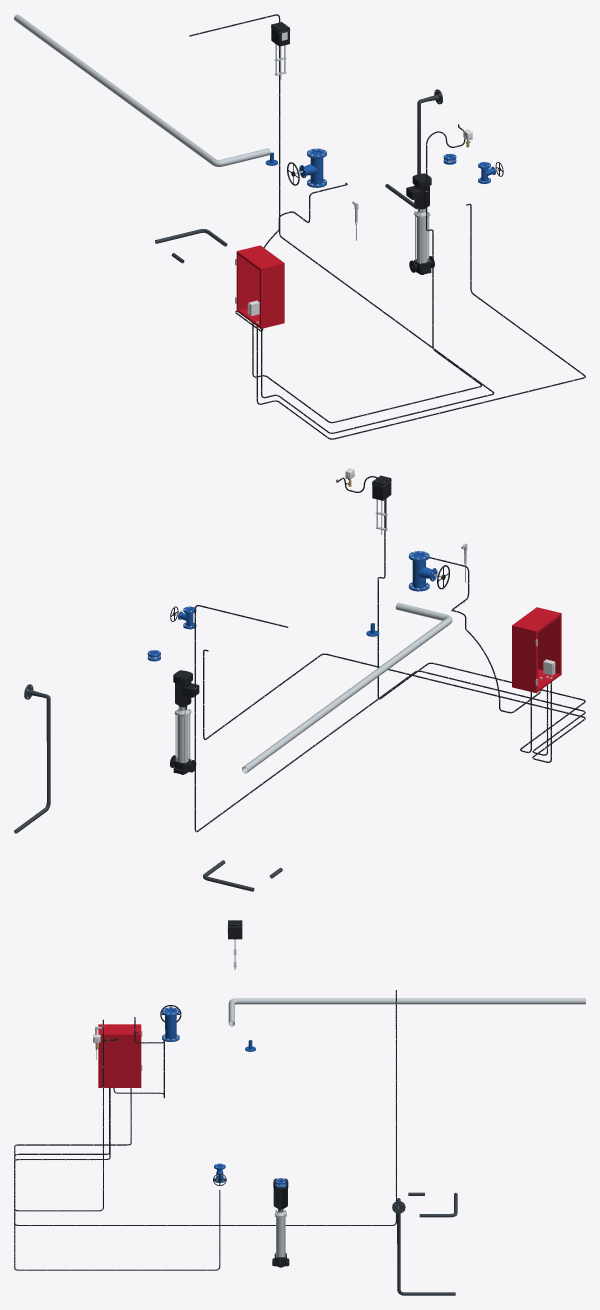
3 views of the same model, one above another, from view 1: azimuth 30°, elevation 25°; view 2: azimuth 150°, elevation 25°; view 3: azimuth 270°, elevation 25° (orthographic). The views are drawn at different scales.
Parts seen in each view (by area): view 1: control_cabinet / control_cabinet_0.npz, safety_vent_1 / steel, mod_eco_drive_cable / black, wiring_pump_1 / black, wiring_pressure_transmitter / black, steam_manual / blue, bottom_to_bdv / dark, pump_2 CAD solid 15; view 2: control_cabinet / control_cabinet_0.npz, safety_vent_1 / steel, mod_eco_drive_cable / black, wiring_pump_1 / black, wiring_pressure_transmitter / black, bottom_to_bdv / dark, steam_manual / blue, pump_2 CAD solid 15, pump_2 CAD solid 2; view 3: control_cabinet / control_cabinet_0.npz, safety_vent_1 / steel, mod_eco_drive_cable / black, wiring_pressure_transmitter / black, wiring_pump_1 / black, bottom_to_bdv / dark.
Part boxes in pixels (left/top/right/bottom): control_cabinet / control_cabinet_0.npz: left=235, top=245, right=284, bottom=328; safety_vent_1 / steel: left=14, top=14, right=270, bottom=166; mod_eco_drive_cable / black: left=189, top=14, right=494, bottom=433; wiring_pump_1 / black: left=256, top=203, right=585, bottom=439; wiring_pressure_transmitter / black: left=252, top=124, right=482, bottom=423; steam_manual / blue: left=299, top=148, right=326, bottom=187; bottom_to_bdv / dark: left=385, top=89, right=442, bottom=209; pump_2 CAD solid 15: left=406, top=173, right=431, bottom=208; control_cabinet / control_cabinet_0.npz: left=512, top=607, right=561, bottom=693; safety_vent_1 / steel: left=242, top=602, right=452, bottom=773; mod_eco_drive_cable / black: left=194, top=605, right=585, bottom=831; wiring_pump_1 / black: left=203, top=649, right=585, bottom=762; wiring_pressure_transmitter / black: left=336, top=476, right=585, bottom=752; bottom_to_bdv / dark: left=14, top=684, right=50, bottom=833; steam_manual / blue: left=408, top=551, right=437, bottom=591; pump_2 CAD solid 15: left=173, top=670, right=199, bottom=706; pump_2 CAD solid 2: left=177, top=715, right=188, bottom=762; control_cabinet / control_cabinet_0.npz: left=98, top=1024, right=142, bottom=1087; safety_vent_1 / steel: left=228, top=998, right=585, bottom=1026; mod_eco_drive_cable / black: left=14, top=990, right=396, bottom=1225; wiring_pressure_transmitter / black: left=14, top=1019, right=131, bottom=1211; wiring_pump_1 / black: left=14, top=1088, right=220, bottom=1270; bottom_to_bdv / dark: left=392, top=1198, right=455, bottom=1295.
Bounding box in the file's own units: 4.42 × 3.71 × 7.03.
